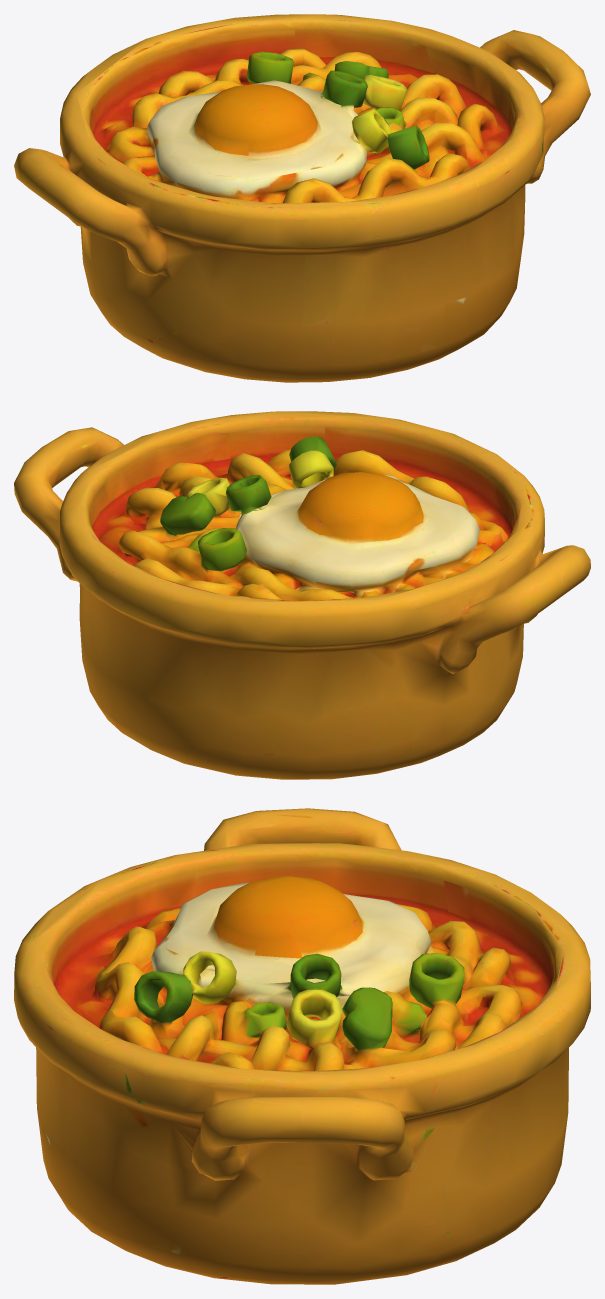
3 views of the same model, one above another, from view 1: azimuth 30°, elevation 25°; view 2: azimuth 150°, elevation 25°; view 3: azimuth 270°, elevation 25° (orthographic). The views are drawn at different scales.
Parts seen in each view (by area): view 1: ramyeon; view 2: ramyeon; view 3: ramyeon.
Part boxes in pixels (x1=…): ramyeon: x1=14, y1=14, x2=590, y2=382; ramyeon: x1=14, y1=411, x2=590, y2=779; ramyeon: x1=14, y1=808, x2=590, y2=1284.
Bounding box in the file's own units: 0.2403 × 0.0995 × 0.1902.
1 material, 1 textured.
